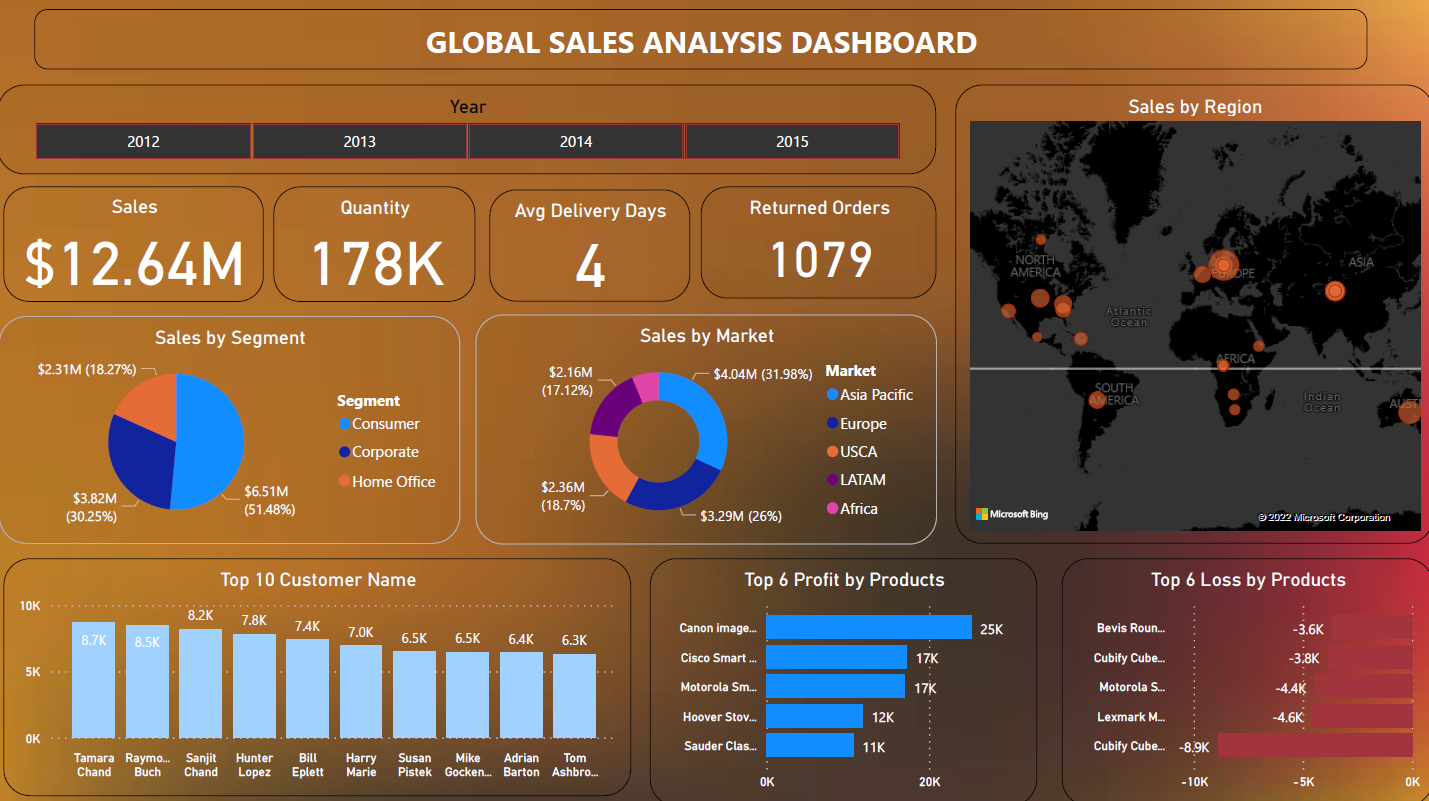

Layout of this report page (visuals, bound fields, positions):
{"tool":"powerbi","page":{"name":"Page 1","canvas":[1280,720],"ordinal":0},"visuals":[{"type":"card","title":"Sales","fields":{"Values":["Orders.Sales"]},"box":[5.5,167.6,232.1,103],"z":0},{"type":"card","title":"Quantity","fields":{"Values":["Orders.Quantity"]},"box":[245.8,167.6,179.9,103],"z":1000},{"type":"card","title":"Avg  Delivery Days","fields":{"Values":["Orders.Delivery Days"]},"box":[438.1,170.3,178.5,100.3],"z":2000},{"type":"slicer","title":"Year","fields":{"Values":["Orders.Year"]},"box":[0,76.9,836.4,79.7],"z":3000},{"type":"card","title":"Returned  Orders","fields":{"Values":["Returns.Return Order"]},"box":[626.3,167.6,210.1,100.3],"z":4000},{"type":"map","fields":{"Category":["Orders.Region"],"Size":["Orders.Sales"]},"box":[852.9,76.9,425.8,409.3],"z":5000},{"type":"clusteredBarChart","fields":{"Y":["Orders.Profit"],"Category":["Orders.Product Name"]},"box":[580.9,498.5,344.7,221.1],"z":6000},{"type":"clusteredBarChart","title":"Top 6 Loss by Products","fields":{"Category":["Orders.Product Name"],"Y":["Orders.Profit"]},"box":[947.6,498.5,331,221.1],"z":7000},{"type":"pieChart","fields":{"Category":["Orders.Segment"],"Y":["Orders.Sales"]},"box":[1.4,282.9,410.6,203.3],"z":8000},{"type":"donutChart","fields":{"Category":["Orders.Market"],"Y":["Orders.Sales"]},"box":[425.8,281.5,410.6,204.6],"z":9000},{"type":"columnChart","title":"Top 10 Customer Name","fields":{"Category":["Orders.Customer Name"],"Y":["Orders.Profit"]},"box":[5.5,498.5,559,211.5],"z":10000},{"type":"textbox","box":[33,9.6,1186.6,53.6],"z":10001}]}

Visuals, with their boxes in screenshot pixels (x1, y1, x2, y2), scaled from the page's 1280x720 canvas onto the 1429x801 screenshot:
"Sales" card: 6:186:265:301
"Quantity" card: 274:186:475:301
"Avg  Delivery Days" card: 489:189:688:301
"Year" slicer: 0:86:934:174
"Returned  Orders" card: 699:186:934:298
map - Orders.Region x Orders.Sales: 952:86:1428:541
clusteredBarChart - Orders.Profit x Orders.Product Name: 649:555:1033:800
"Top 6 Loss by Products" clusteredBarChart: 1058:555:1427:800
pieChart - Orders.Segment x Orders.Sales: 2:315:460:541
donutChart - Orders.Market x Orders.Sales: 475:313:934:541
"Top 10 Customer Name" columnChart: 6:555:630:790
textbox: 37:11:1362:70
